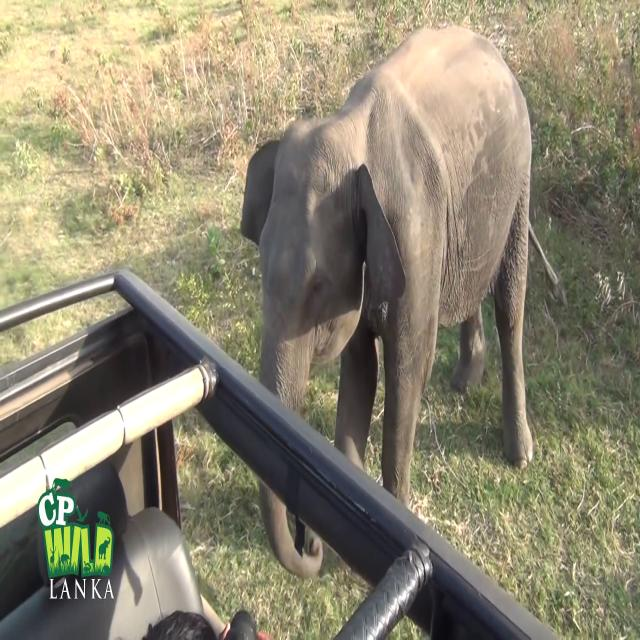Elephant: (240, 24, 557, 579)
